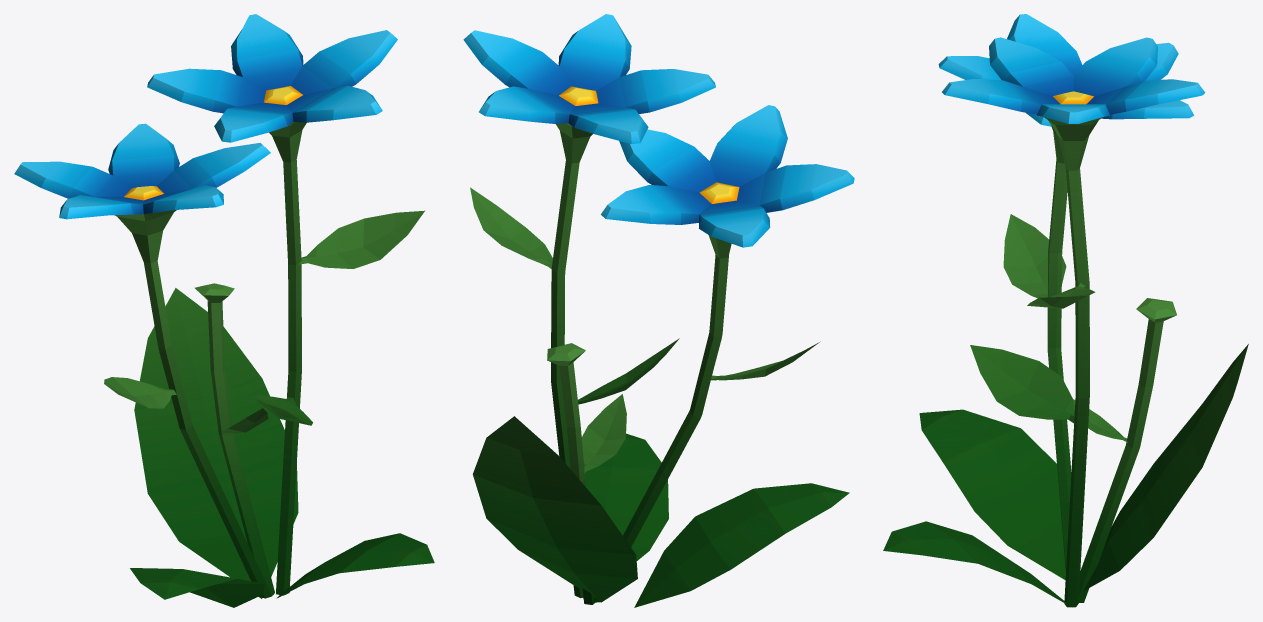
The model's file is Flower_Blue_04.fbx.
The picture shows the model from 3 angles, left to right: view 1: azimuth 30°, elevation 25°; view 2: azimuth 150°, elevation 25°; view 3: azimuth 270°, elevation 25°; orthographic projection. The views are drawn at different scales.
Parts seen in each view (by area): view 1: Flower_Blue_04; view 2: Flower_Blue_04; view 3: Flower_Blue_04.
Part boxes in pixels (box(x1,y1,x2,y2)): Flower_Blue_04: box(14, 14, 434, 607); Flower_Blue_04: box(463, 14, 854, 607); Flower_Blue_04: box(883, 14, 1248, 607).
Size of the model in its own units: 33.08 by 45.69 by 27.44.
